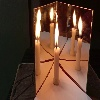fire: (55, 24, 60, 50)
